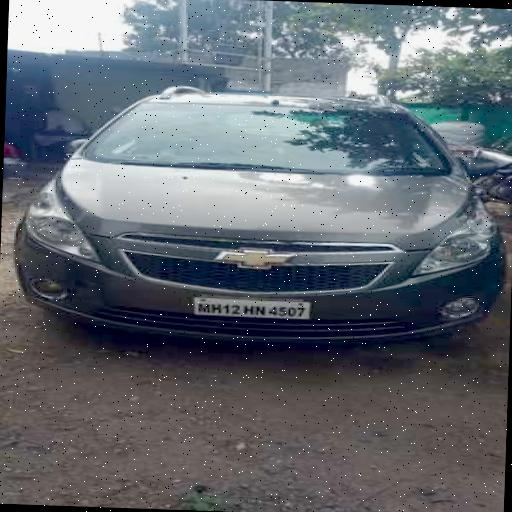license_plate`: (192, 298, 307, 318)
